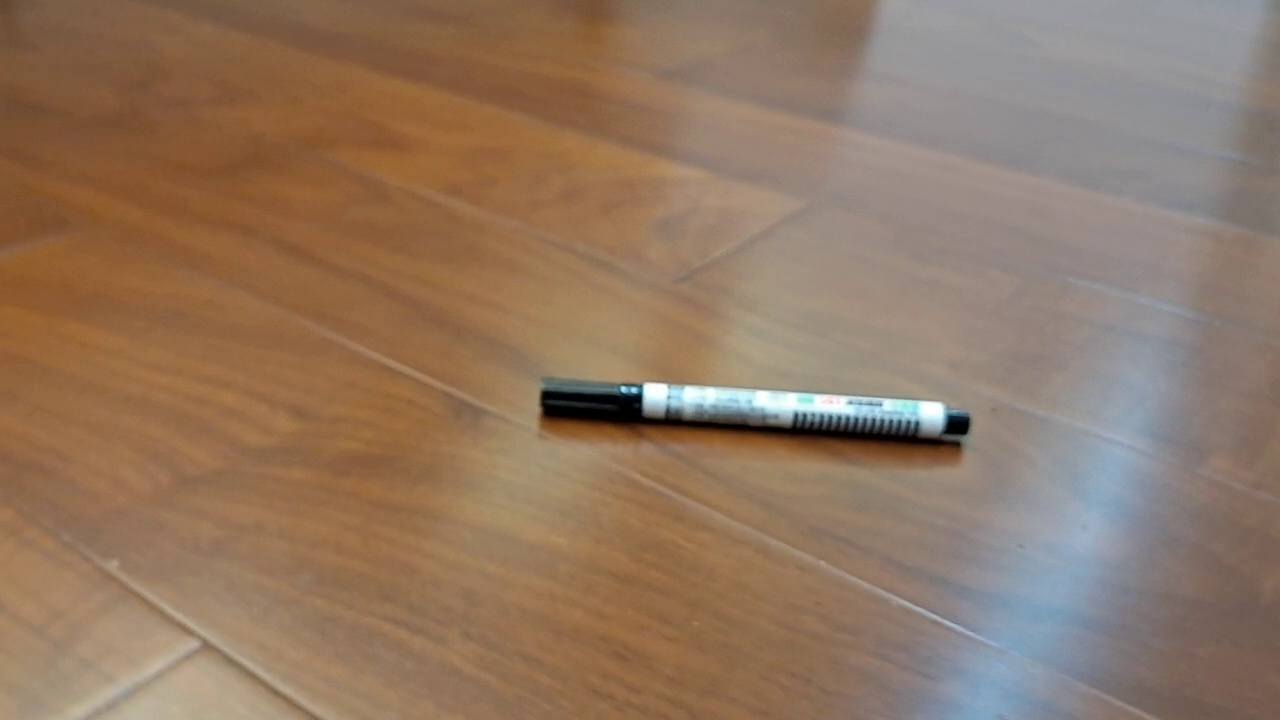pen: (540, 376, 970, 438)
